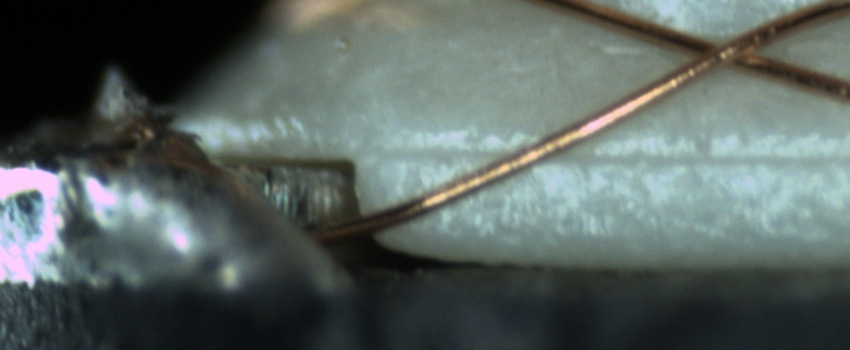CL: (673, 22, 773, 78)
DL: (385, 128, 850, 194)
